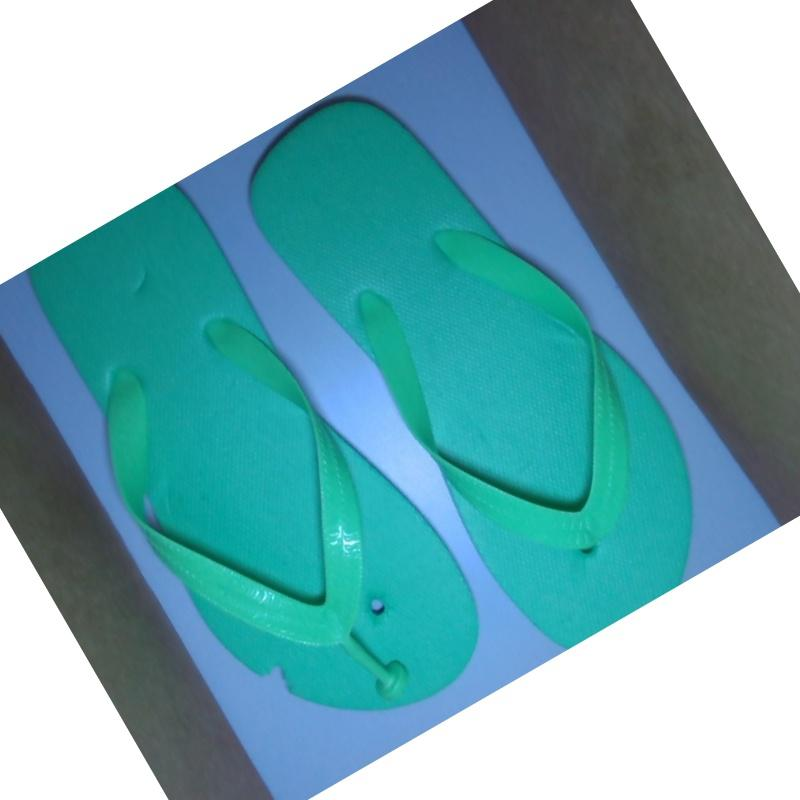chipped: (251, 652, 302, 702)
detached: (364, 643, 416, 708)
